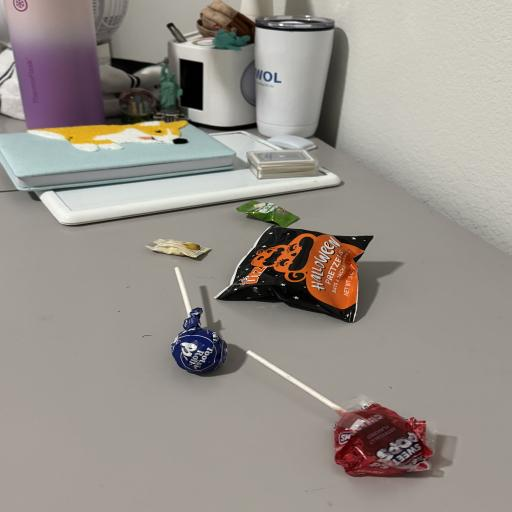chocolate: (216, 227, 373, 322), (335, 397, 433, 475), (171, 308, 227, 373), (237, 201, 299, 227), (146, 239, 210, 257)
